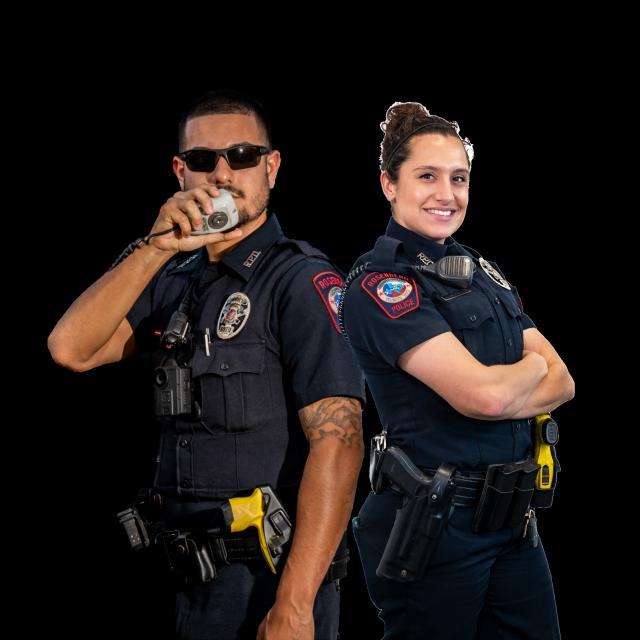police: (58, 91, 363, 640), (351, 97, 583, 640)
